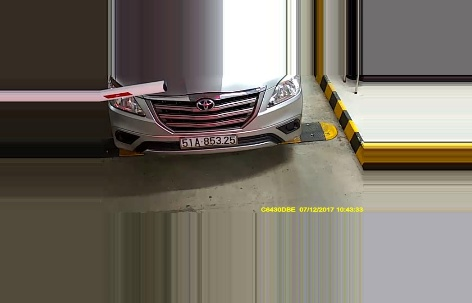plate: (179, 135, 239, 147)
